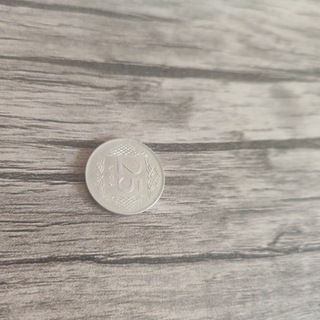25KURUS: (84, 137, 166, 217)
